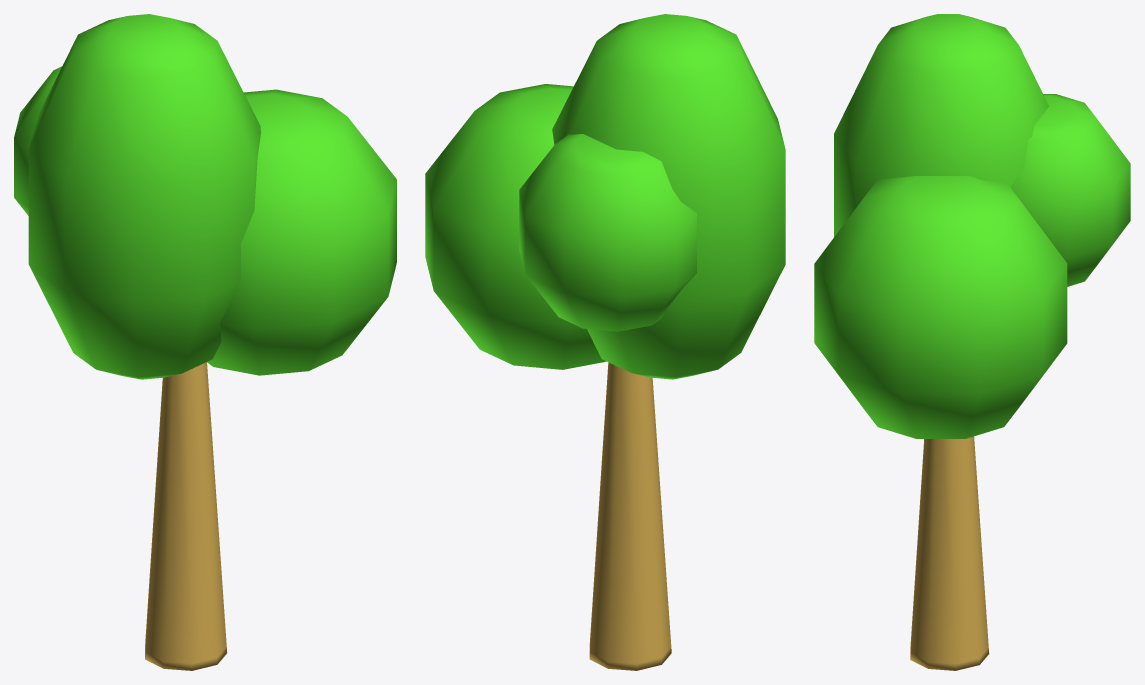
Rendered from Tree.fbx.
3 views of the same model, side by side, from view 1: azimuth 30°, elevation 25°; view 2: azimuth 150°, elevation 25°; view 3: azimuth 270°, elevation 25° (orthographic). The views are drawn at different scales.
Visible parts, largest first — view 1: Sphere, Cylinder; view 2: Sphere, Cylinder; view 3: Sphere, Cylinder.
Boxes of the visible parts, x1,y1,x2,y2 form: Sphere: [14, 14, 396, 379]; Cylinder: [145, 362, 227, 670]; Sphere: [425, 14, 785, 379]; Cylinder: [589, 362, 671, 670]; Sphere: [814, 14, 1130, 438]; Cylinder: [910, 436, 989, 670].
Size of the model in its own units: 375 by 698 by 329.
